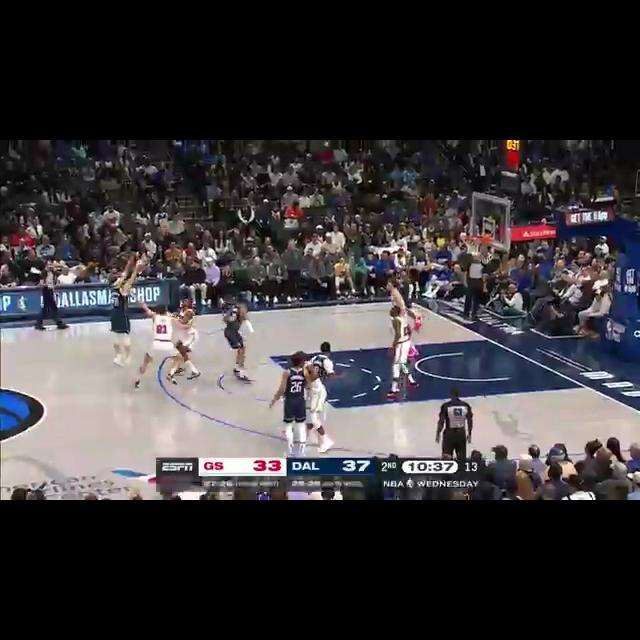Team-1-Player: (265, 356, 321, 458), (107, 255, 141, 372), (218, 293, 256, 382)
Team-2-Player: (134, 294, 182, 390), (385, 306, 419, 404), (170, 298, 204, 346), (378, 276, 407, 310)
